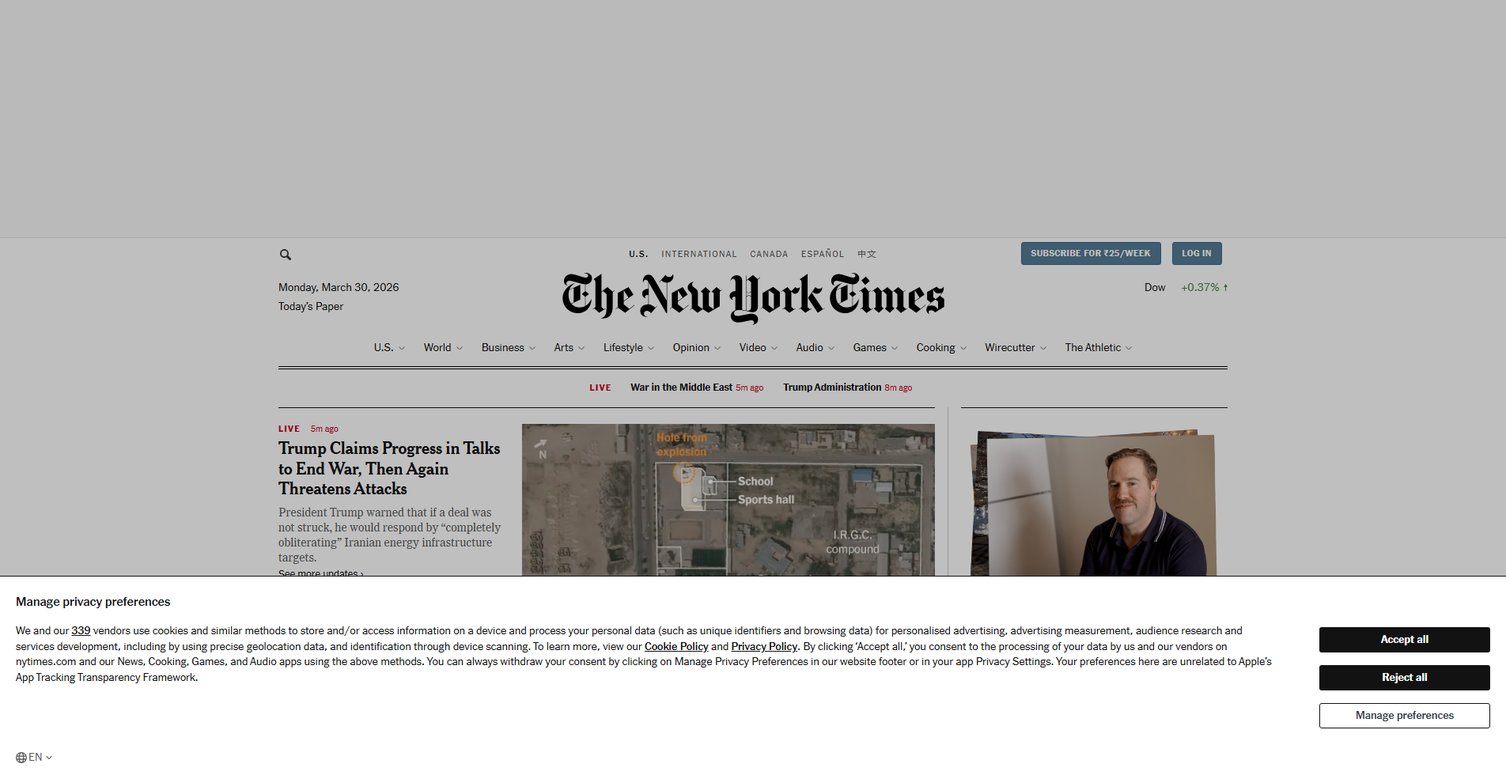button: (1319, 627, 1490, 728), (1319, 703, 1490, 728), (1319, 665, 1490, 690), (1319, 627, 1490, 652), (13, 749, 155, 774), (13, 749, 58, 766), (272, 242, 299, 268), (13, 775, 155, 779), (1487, 577, 1506, 596), (72, 624, 91, 637), (714, 340, 721, 353), (891, 340, 898, 353), (399, 340, 405, 353), (456, 340, 462, 353), (529, 340, 535, 353), (578, 340, 584, 353), (648, 340, 654, 353), (771, 340, 777, 353), (828, 340, 834, 353), (960, 340, 966, 353), (1040, 340, 1046, 353), (1126, 340, 1132, 353)
link: (522, 424, 935, 714), (561, 273, 945, 323), (278, 438, 509, 498), (961, 623, 1228, 667), (278, 607, 509, 641), (961, 729, 1081, 779), (1107, 729, 1227, 779), (1253, 729, 1373, 779), (1399, 729, 1506, 779), (278, 758, 509, 779), (1021, 242, 1166, 265), (655, 244, 744, 263), (631, 382, 767, 394), (783, 382, 916, 394), (1172, 242, 1222, 265), (795, 244, 851, 263), (278, 299, 343, 315), (744, 244, 795, 263), (731, 639, 797, 653), (645, 639, 708, 653), (1065, 342, 1126, 354), (985, 342, 1040, 354), (623, 244, 655, 263), (851, 244, 883, 263), (481, 342, 529, 354), (603, 342, 648, 354), (917, 342, 960, 354), (673, 342, 714, 354), (853, 342, 891, 354), (424, 342, 456, 354), (796, 342, 828, 354), (740, 342, 771, 354), (88, 0, 108, 15), (374, 342, 399, 354), (554, 342, 578, 354)
